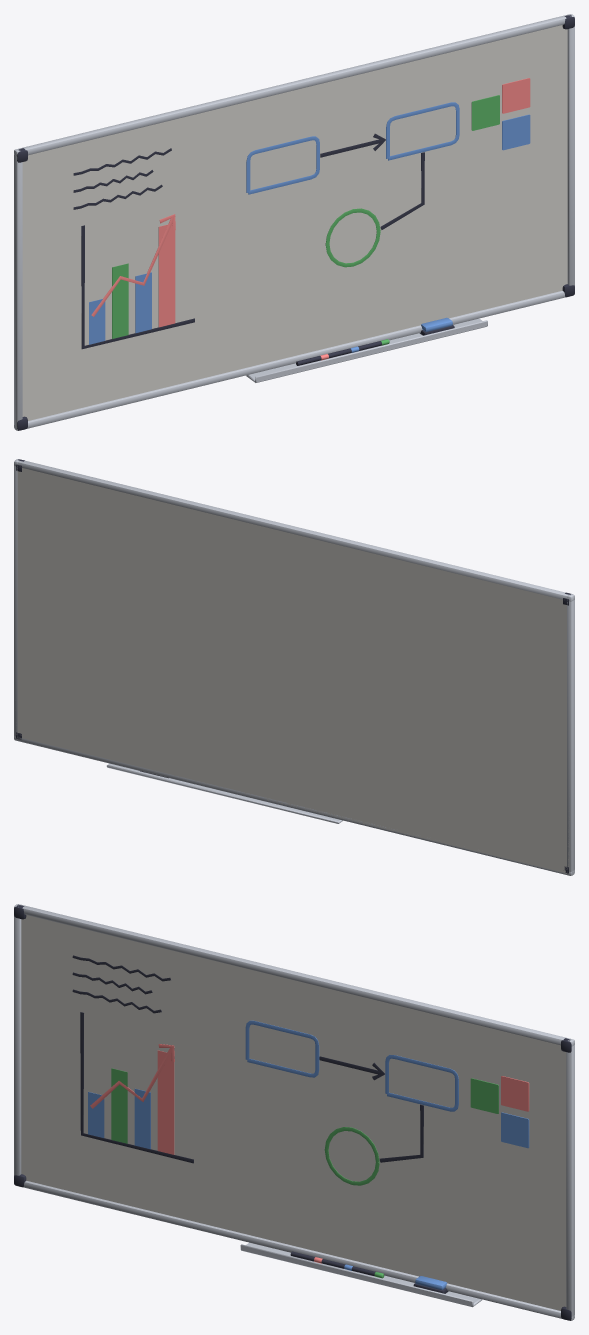
Rendered from whiteboard.glb.
3 renders of one model, top to bottom at view 1: azimuth 30°, elevation 25°; view 2: azimuth 150°, elevation 25°; view 3: azimuth 330°, elevation 25°, orthographic.
Parts seen in each view (by area): view 1: white, chrome, ink_blue, charcoal, ink_red, ink_green; view 2: white, chrome; view 3: white, chrome, ink_blue, charcoal, ink_red, ink_green.
Part boxes in pixels (box(x1,y1,x2,y2)): white: box(22, 25, 567, 420); chrome: box(14, 14, 574, 430); ink_blue: box(89, 102, 530, 352); charcoal: box(17, 15, 574, 430); ink_red: box(91, 78, 530, 360); ink_green: box(112, 95, 499, 345); white: box(17, 468, 569, 873); chrome: box(14, 459, 574, 875); white: box(21, 915, 566, 1310); chrome: box(14, 904, 574, 1320); ink_blue: box(88, 1020, 529, 1289); charcoal: box(14, 904, 571, 1320); ink_red: box(90, 1044, 529, 1263); ink_green: box(111, 1068, 498, 1278).
Bounding box in the file's own units: 2.4 × 1.17 × 0.072.
